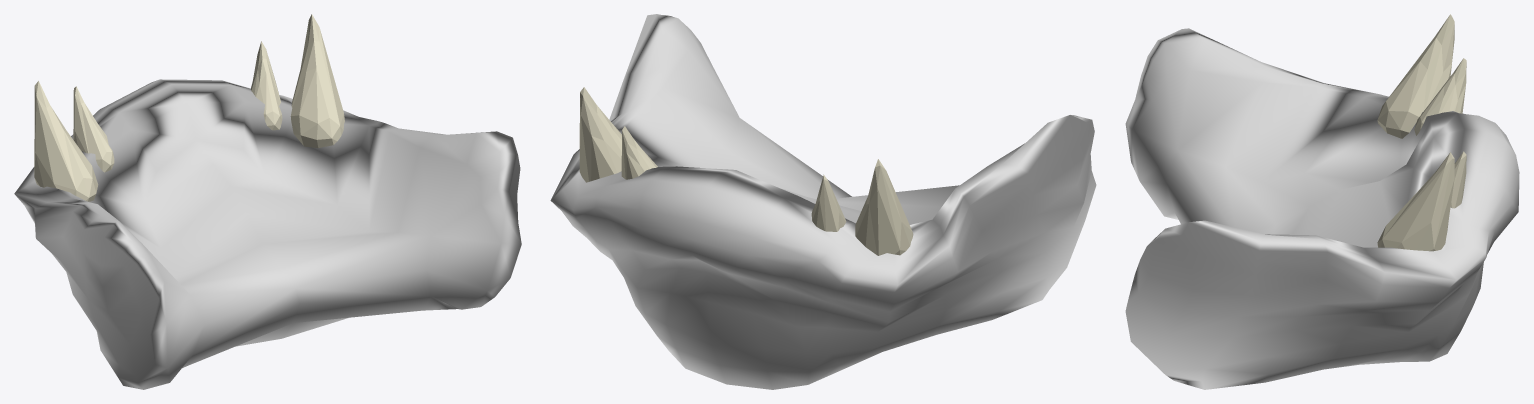
Rendered from OrcJaw3.fbx.
3 views of the same model, side by side, from view 1: azimuth 30°, elevation 25°; view 2: azimuth 150°, elevation 25°; view 3: azimuth 270°, elevation 25° (orthographic). The views are drawn at different scales.
Visible parts, largest first — view 1: Jaw, teeth2, teeth3; view 2: Jaw, teeth2, teeth3; view 3: Jaw, teeth2, teeth3.
Part boxes in pixels (left/top/right/bottom): Jaw: left=14, top=79, right=521, bottom=389; teeth2: left=34, top=14, right=344, bottom=201; teeth3: left=73, top=41, right=282, bottom=172; Jaw: left=550, top=14, right=1096, bottom=389; teeth2: left=579, top=87, right=913, bottom=255; teeth3: left=621, top=126, right=846, bottom=231; Jaw: left=1125, top=28, right=1519, bottom=389; teeth2: left=1377, top=14, right=1454, bottom=251; teeth3: left=1414, top=58, right=1466, bottom=208.
Bounding box in the file's own units: 0.1627 × 0.0939 × 0.1306.
